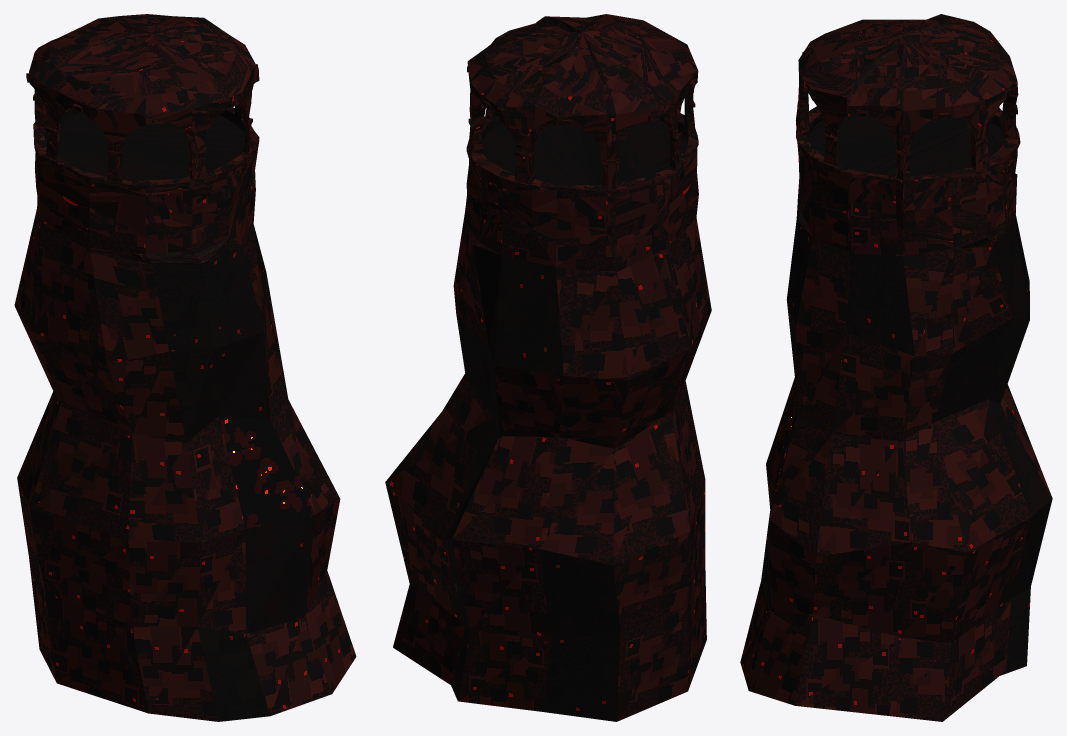
The model's file is tower_arches.glb.
3 views of the same model, side by side, from view 1: azimuth 30°, elevation 25°; view 2: azimuth 150°, elevation 25°; view 3: azimuth 270°, elevation 25° (orthographic). The views are drawn at different scales.
Visible parts, largest first — view 1: TowerRock; view 2: TowerRock; view 3: TowerRock.
Boxes of the visible parts, x1,y1,x2,y2 form: TowerRock: (14,14,356,721); TowerRock: (385,14,711,721); TowerRock: (740,14,1052,721).
Size of what is drawn, in the model's own units: 22.05 by 47.46 by 21.98.
1 material, 1 textured.
